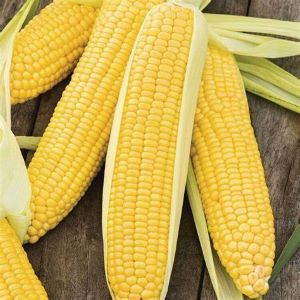corn: (123, 3, 187, 299)
